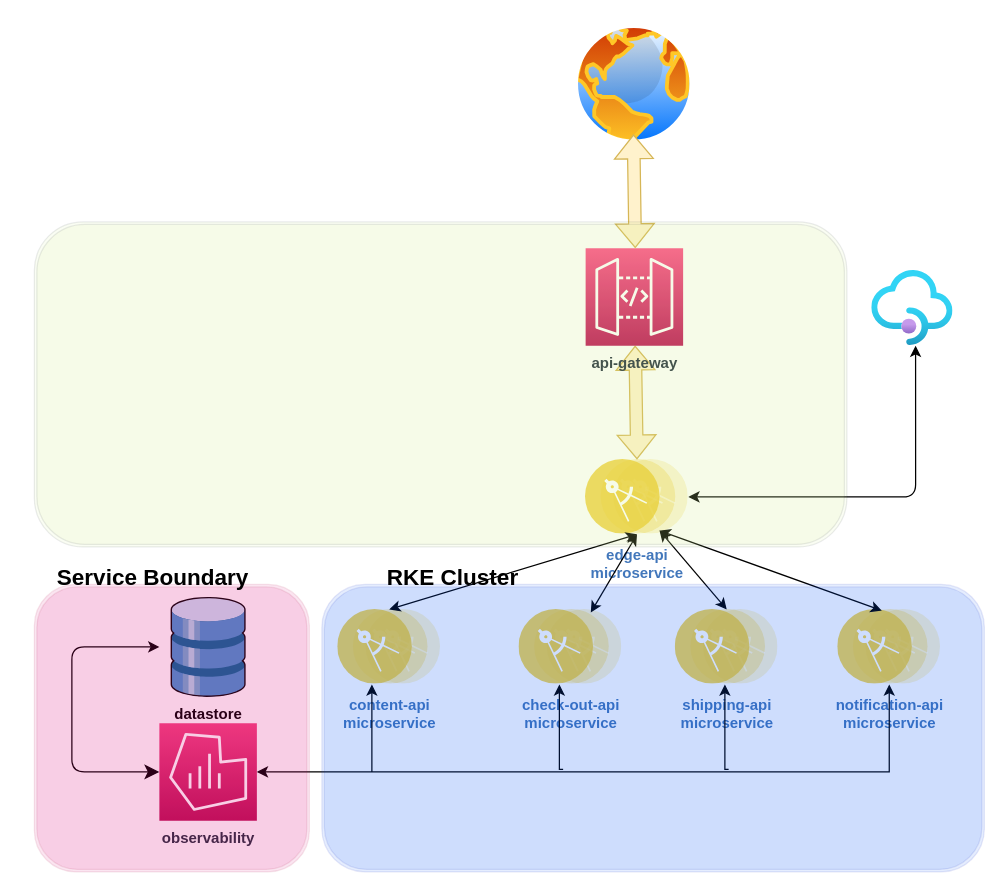
Some shapes in this 1006 by 894 pixel diagram are drawn without their labels. The box of each missing label's shape, as (x1, y1, x2, y2) in pixels:
Application API: (871, 270, 952, 345)
Gateway Boundary: (33, 221, 847, 547)
Internet: (571, 21, 696, 146)
